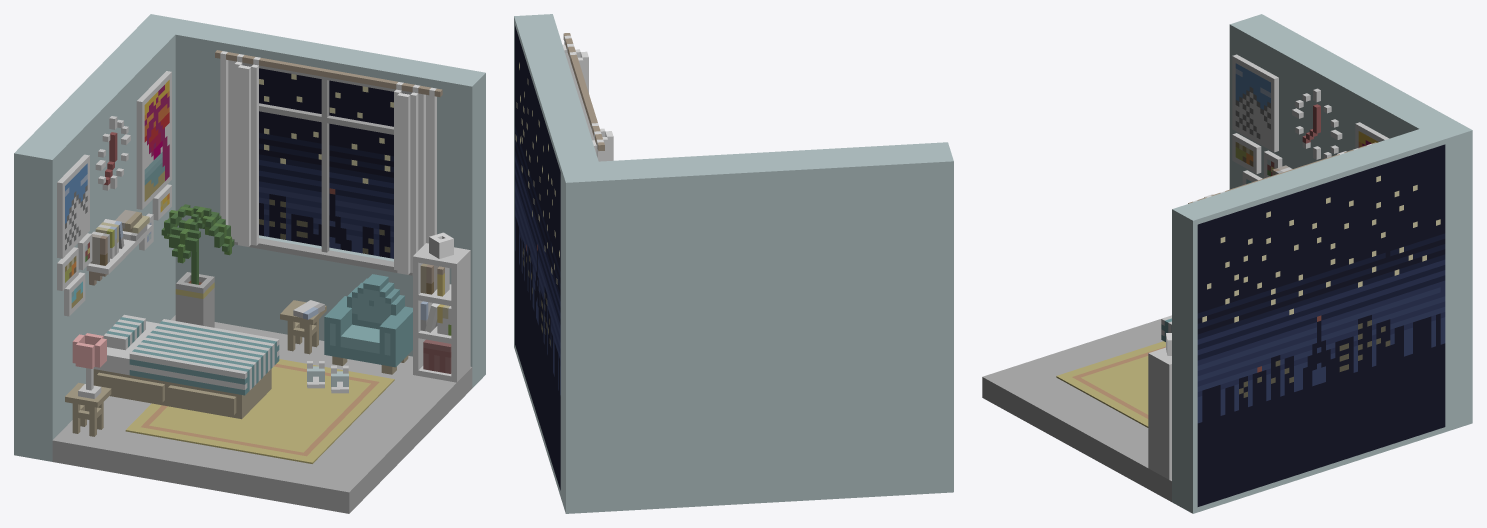
The model's file is room_night_bedroom.glb.
The picture shows the model from 3 angles, left to right: view 1: azimuth 30°, elevation 25°; view 2: azimuth 150°, elevation 25°; view 3: azimuth 270°, elevation 25°; orthographic projection. The views are drawn at different scales.
Visible parts, largest first — view 1: bed_0__geom, floor_0__geom, curtain_0__geom, rug_0__geom, wallarts_0__geom, couch_0__geom, bookshelf2_0__geom, window_0__geom, green_0__geom, table.001_0__geom, bookshelf_0__geom, curtain_rail_0__geom (+6 smaller); view 2: bed_0__geom, curtain_0__geom, curtain_rail_0__geom, city_lights_0__geom; view 3: bed_0__geom, floor_0__geom, wallarts_0__geom, rug_0__geom, bookshelf2_0__geom, city_lights_0__geom.
Boxes of the visible parts, <box> form: bed_0__geom: <box>14,14,485,461</box>; floor_0__geom: <box>52,315,472,513</box>; curtain_0__geom: <box>220,51,436,274</box>; rug_0__geom: <box>125,359,394,463</box>; wallarts_0__geom: <box>57,71,171,316</box>; couch_0__geom: <box>324,274,412,374</box>; bookshelf2_0__geom: <box>413,243,470,382</box>; window_0__geom: <box>232,62,412,275</box>; green_0__geom: <box>161,204,234,327</box>; table.001_0__geom: <box>65,300,326,436</box>; bookshelf_0__geom: <box>86,210,151,285</box>; curtain_rail_0__geom: <box>215,50,442,96</box>; bed_0__geom: <box>514,14,953,513</box>; curtain_0__geom: <box>562,35,613,161</box>; curtain_rail_0__geom: <box>563,33,604,151</box>; city_lights_0__geom: <box>515,62,559,345</box>; bed_0__geom: <box>1161,14,1472,513</box>; floor_0__geom: <box>982,319,1171,501</box>; wallarts_0__geom: <box>1232,54,1389,184</box>; rug_0__geom: <box>1056,341,1165,427</box>; bookshelf2_0__geom: <box>1148,347,1171,479</box>; city_lights_0__geom: <box>1202,175,1440,397</box>.
Size of the model in its own units: 142 by 93.84 by 142.
Materials: 23 (23 with a texture image).
